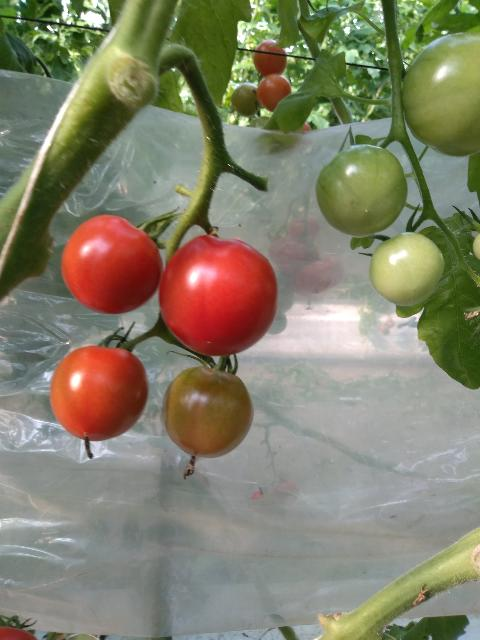l_fully_ripened: (157, 235, 279, 357), (61, 215, 164, 314), (48, 345, 149, 442)
l_green: (401, 31, 480, 157), (315, 143, 408, 239), (369, 232, 444, 306), (231, 83, 264, 117)
l_half_ripened: (161, 366, 255, 458), (257, 74, 292, 112), (253, 40, 286, 77)
